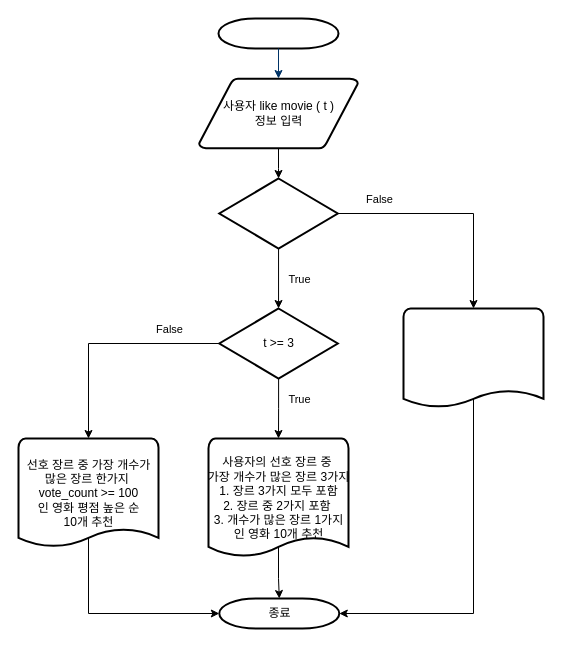
This 561x646 diagram has some shape labels left out. Here are the shapes that lost their labels. From the top down, the box of each, then its label:
(217, 17, 339, 49): 시작
(218, 177, 338, 249): t > 0?
(402, 307, 544, 409): vote_count >= 100 vote_average >= 7 인 영화 중 10개 Random
